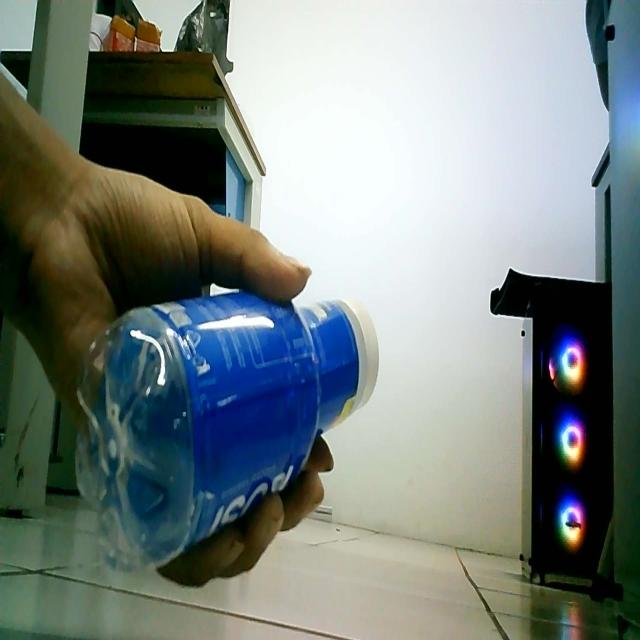botol: (58, 238, 388, 581)
